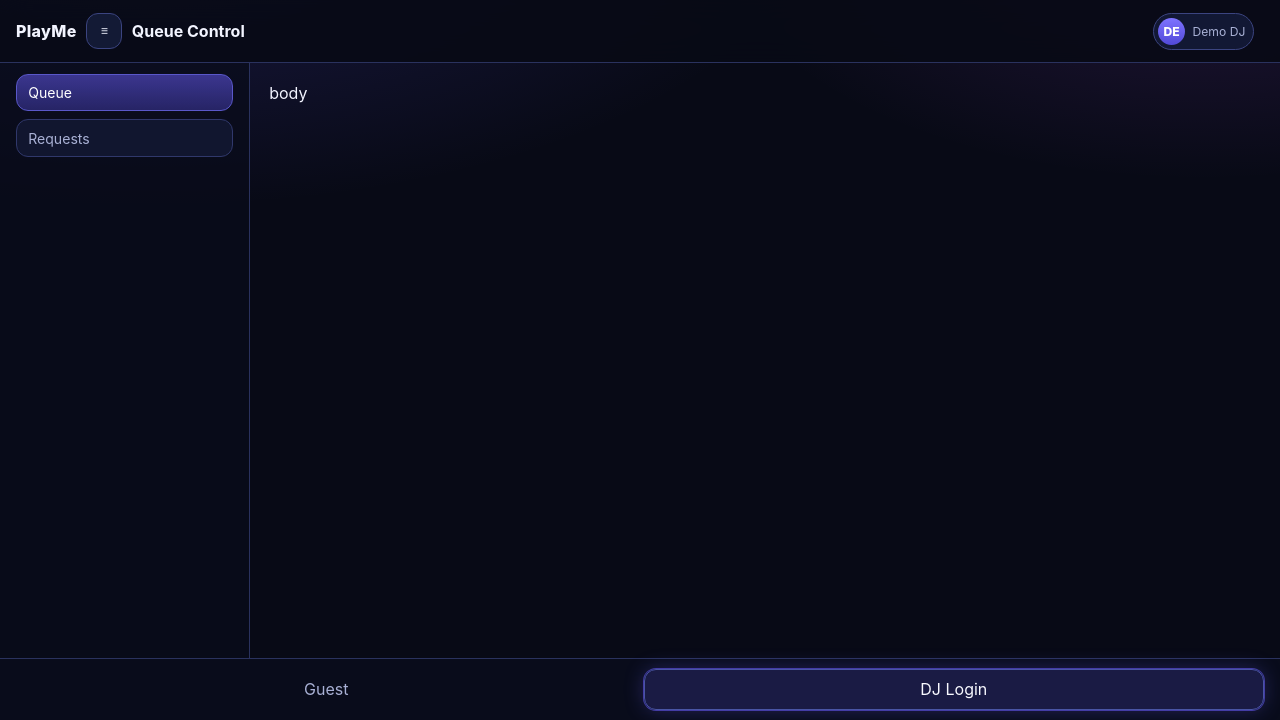
AppShell › renders queue/requests as default dj nav and reveals dashboard menu on hamburger click
Check: the heading "Queue Control" is shown, box [132,21,245,41]
Check: the navigation bar named "DJ navigation" is shown, box [0,63,250,658]
Click the button named "Open navigation" at (104, 31), box [86,13,122,49]
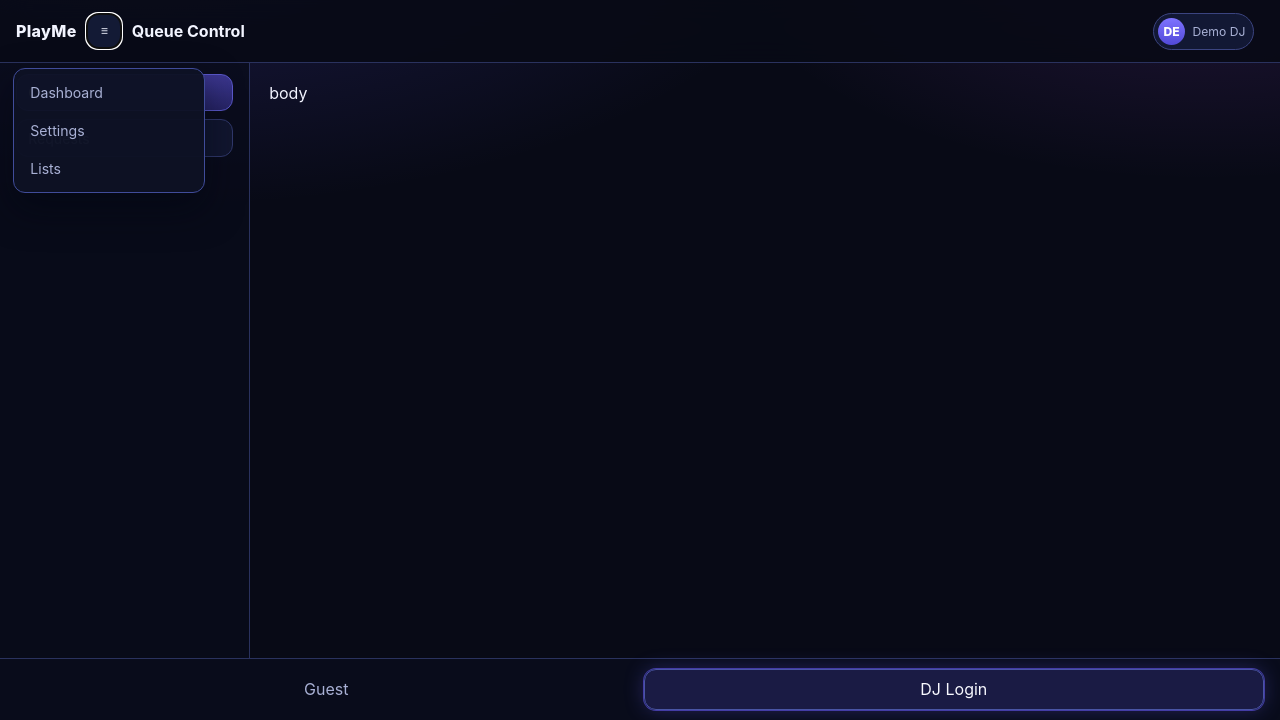
Check: the navigation bar named "DJ menu" is shown, box [13,68,205,193]
Check: the link "Dashboard" is shown, box [30,84,103,101]
Check: the link "Settings" is shown, box [30,122,85,139]
